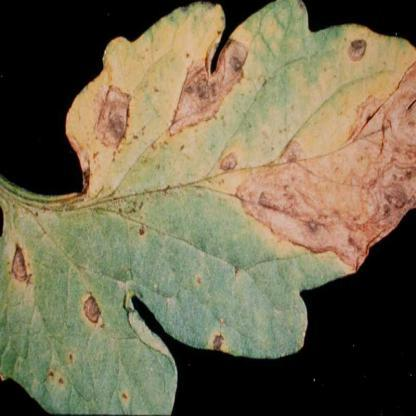Potato leaf late blight: (2, 1, 416, 404)
